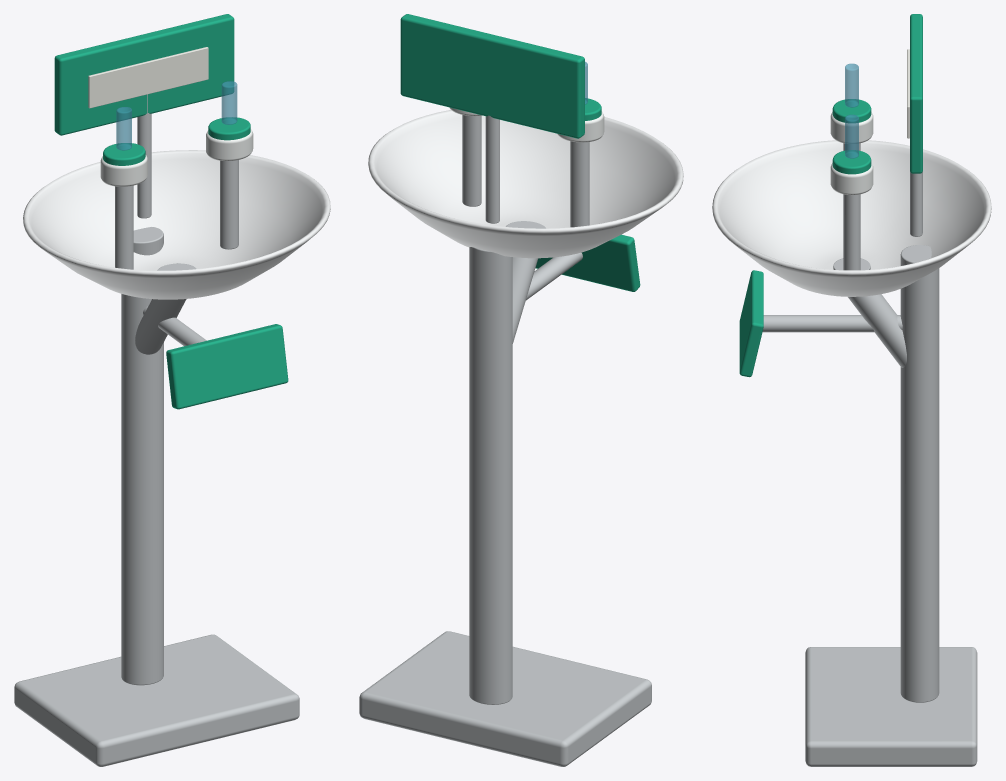
File: eyewash.glb
The picture shows the model from 3 angles, left to right: view 1: azimuth 30°, elevation 25°; view 2: azimuth 150°, elevation 25°; view 3: azimuth 270°, elevation 25°; orthographic projection. The views are drawn at different scales.
Parts seen in each view (by area): view 1: Runtime batch - Brushed stainless steel, Runtime batch - Polished process stainless steel, Runtime batch - Emergency equipment green, Runtime batch - Matte equipment label, Runtime batch - Laboratory white polymer, Runtime batch - Safety spray water; view 2: Runtime batch - Brushed stainless steel, Runtime batch - Polished process stainless steel, Runtime batch - Emergency equipment green, Runtime batch - Laboratory white polymer; view 3: Runtime batch - Brushed stainless steel, Runtime batch - Polished process stainless steel, Runtime batch - Emergency equipment green, Runtime batch - Laboratory white polymer, Runtime batch - Safety spray water.
Boxes of the visible parts, bbox=[...] form: Runtime batch - Brushed stainless steel: bbox=[14, 94, 299, 766]; Runtime batch - Polished process stainless steel: bbox=[23, 150, 330, 299]; Runtime batch - Emergency equipment green: bbox=[54, 14, 288, 409]; Runtime batch - Matte equipment label: bbox=[88, 47, 208, 108]; Runtime batch - Laboratory white polymer: bbox=[100, 129, 253, 186]; Runtime batch - Safety spray water: bbox=[116, 81, 237, 150]; Runtime batch - Brushed stainless steel: bbox=[359, 115, 651, 766]; Runtime batch - Polished process stainless steel: bbox=[368, 110, 683, 258]; Runtime batch - Emergency equipment green: bbox=[400, 14, 640, 291]; Runtime batch - Laboratory white polymer: bbox=[449, 107, 604, 142]; Runtime batch - Brushed stainless steel: bbox=[762, 143, 977, 766]; Runtime batch - Polished process stainless steel: bbox=[712, 140, 991, 296]; Runtime batch - Emergency equipment green: bbox=[739, 14, 922, 377]; Runtime batch - Laboratory white polymer: bbox=[830, 112, 873, 195]; Runtime batch - Safety spray water: bbox=[845, 63, 858, 158].
Bounding box in the file's own units: 0.45 × 1.05 × 0.4.
